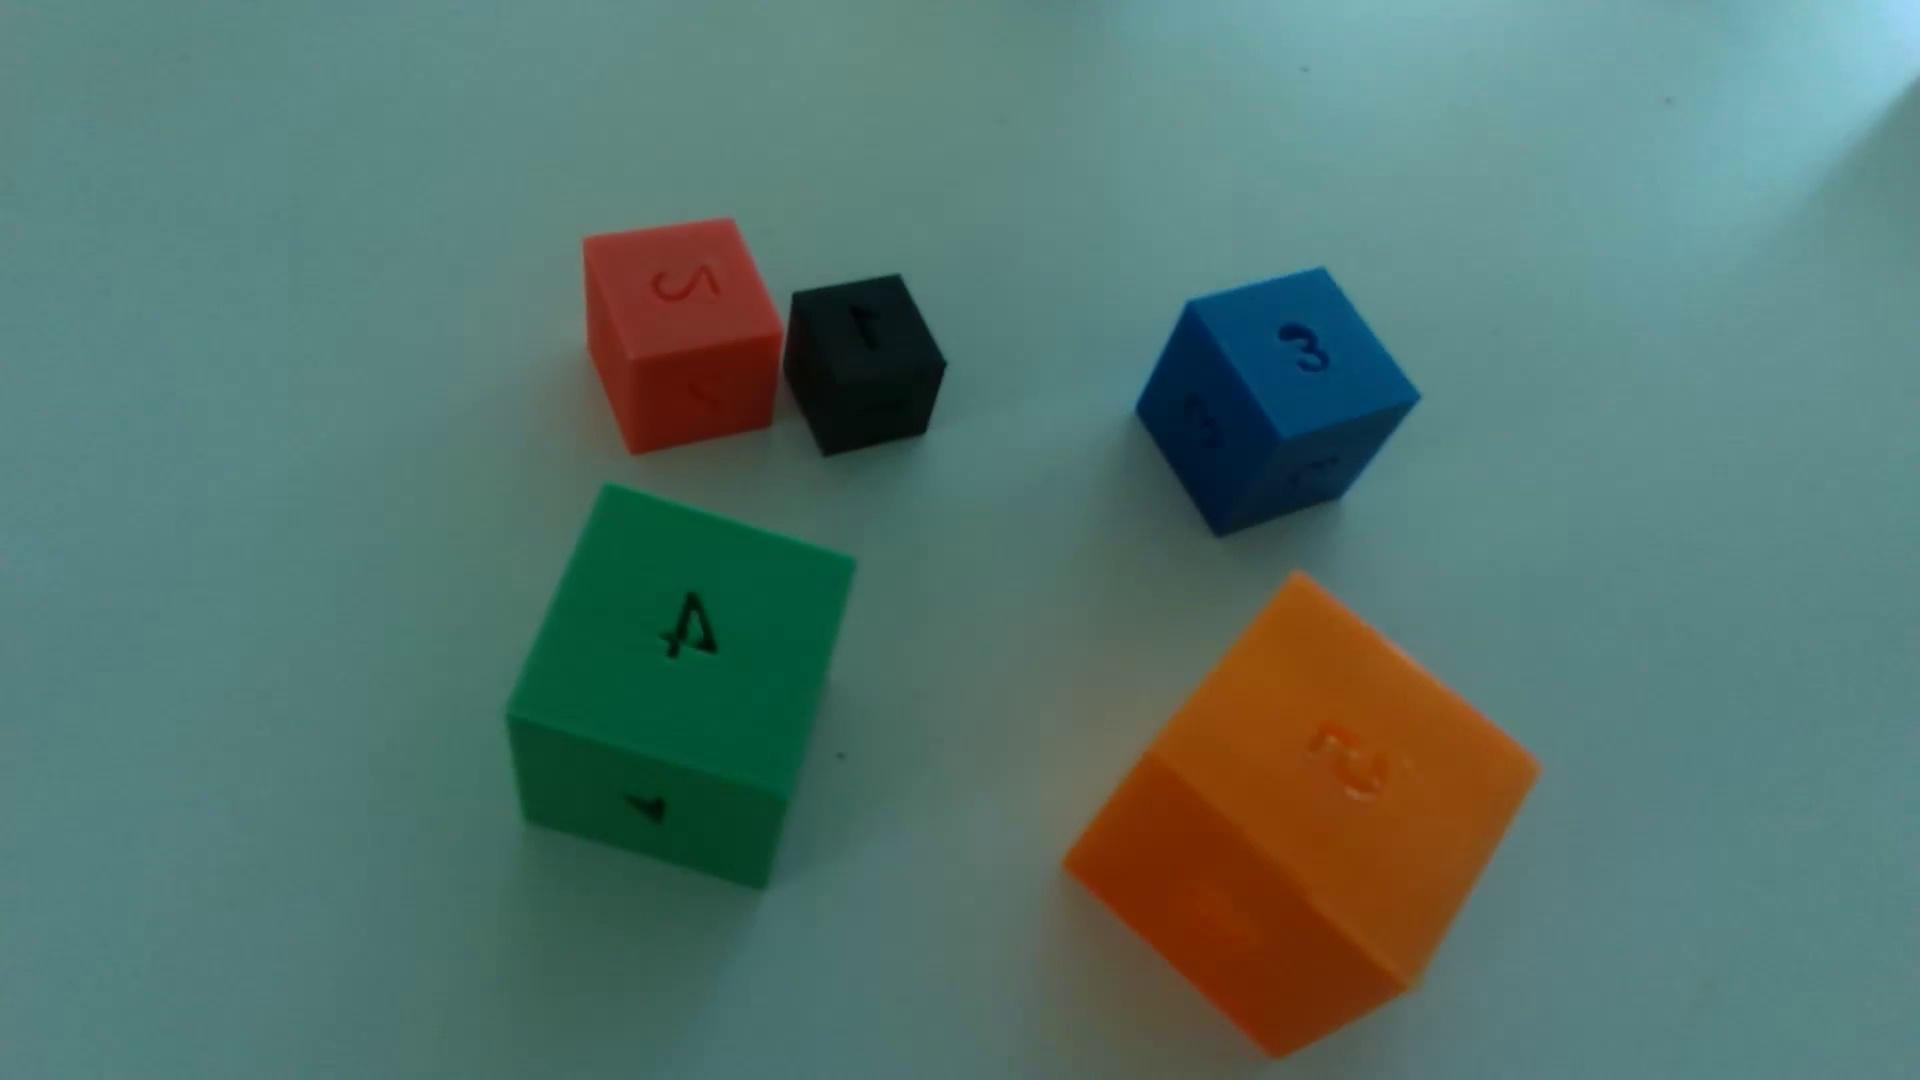black: (785, 276, 947, 458)
blue: (1137, 269, 1419, 537)
green: (506, 485, 855, 887)
orange: (1065, 578, 1538, 1056)
red: (582, 220, 785, 455)
